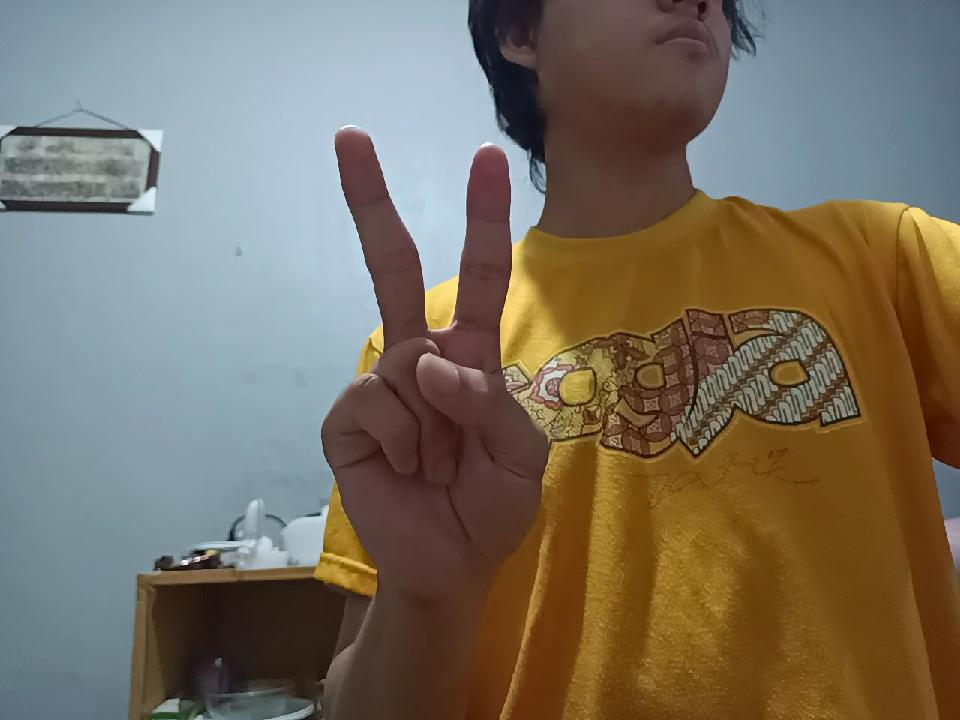scissors: (320, 129, 536, 578)
